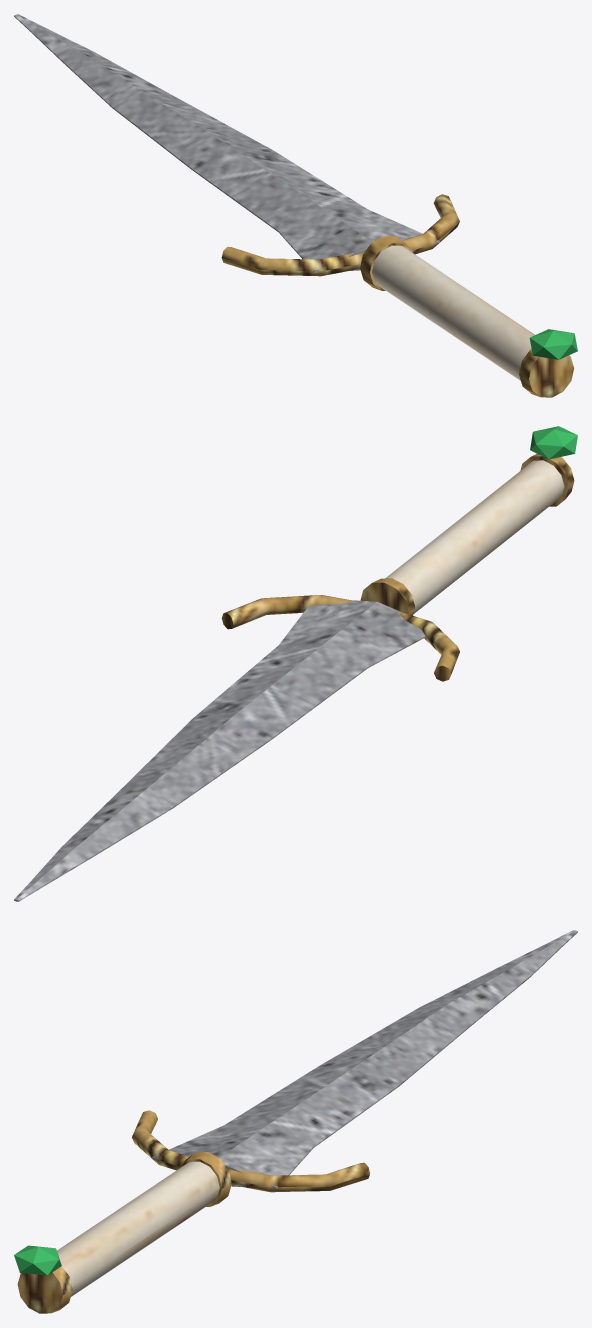
Rendered from item_dagger4.glb.
3 renders of one model, top to bottom at view 1: azimuth 30°, elevation 25°; view 2: azimuth 150°, elevation 25°; view 3: azimuth 330°, elevation 25°, orthographic.
Visible parts, largest first — view 1: w02_dagger4; view 2: w02_dagger4; view 3: w02_dagger4.
Boxes of the visible parts, bbox=[...] form: w02_dagger4: bbox=[14, 14, 577, 397]; w02_dagger4: bbox=[14, 426, 577, 901]; w02_dagger4: bbox=[14, 930, 577, 1313].
Size of the model in its own units: 0.2351 by 0.0787 by 0.973.
2 materials, 1 textured.
